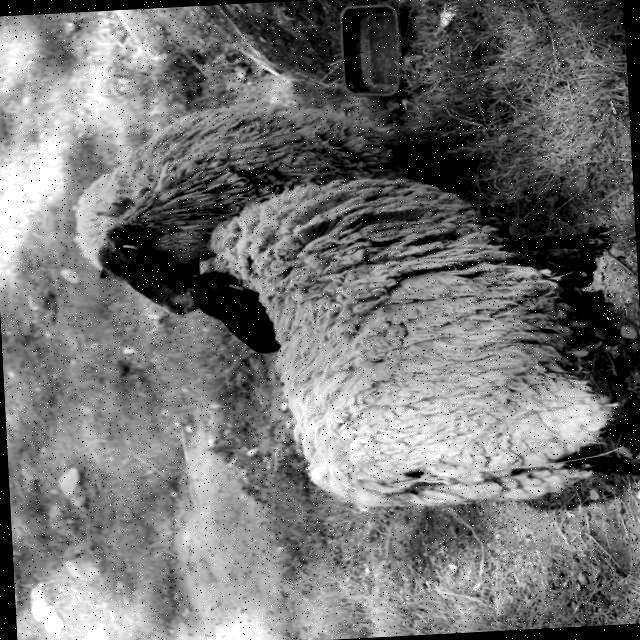sheep: (196, 179, 640, 509), (70, 102, 441, 316)
